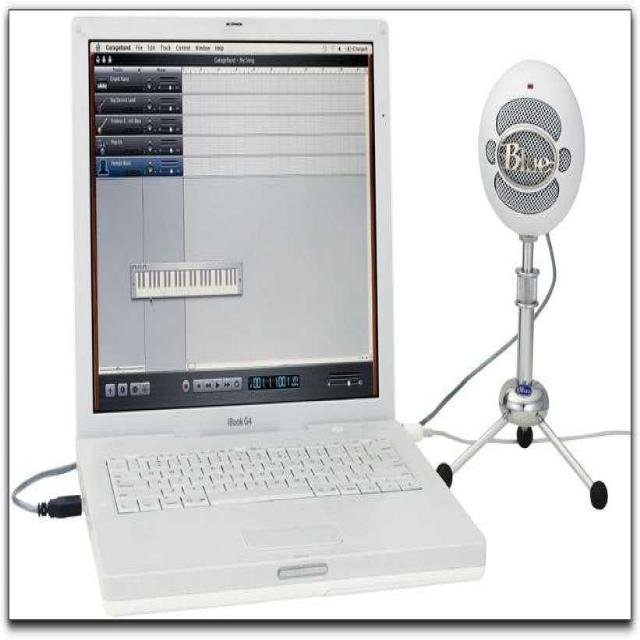microphone: (477, 61, 583, 237)
